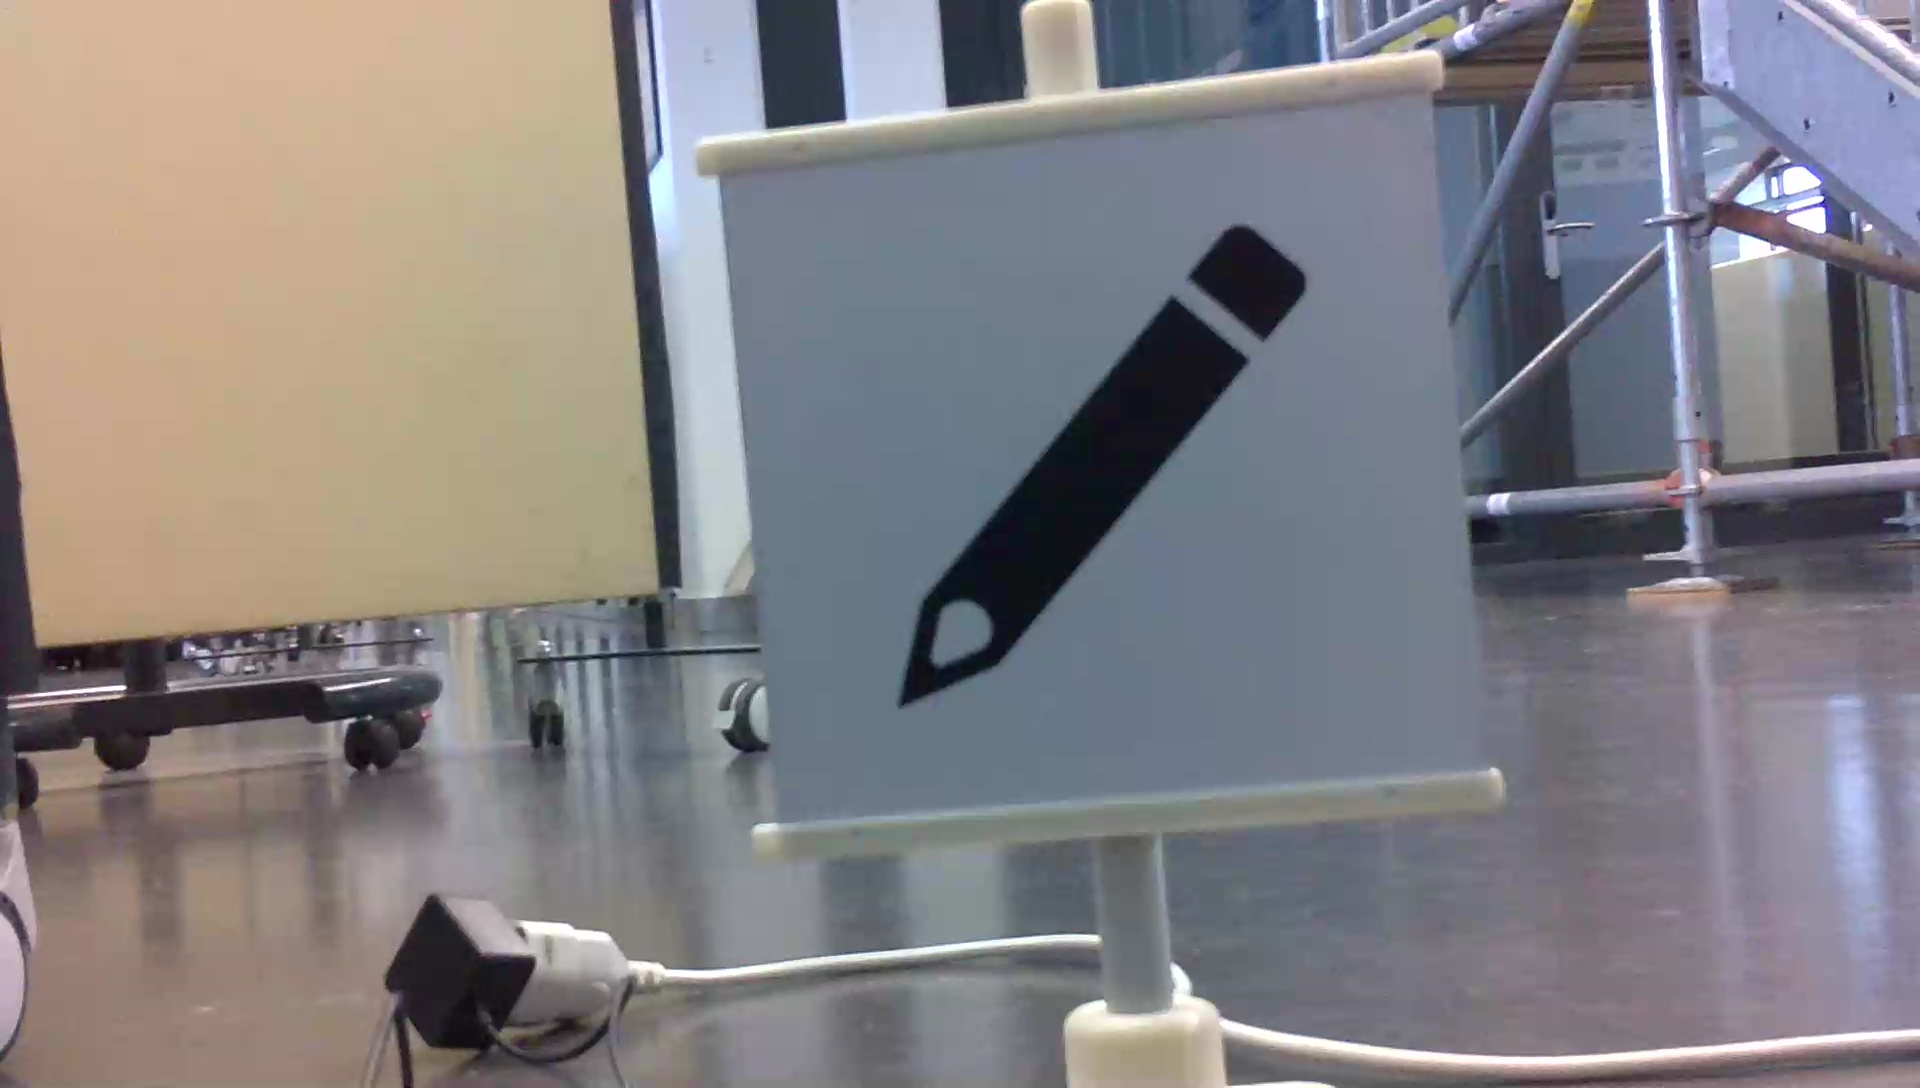pencil: (874, 212, 1320, 719)
